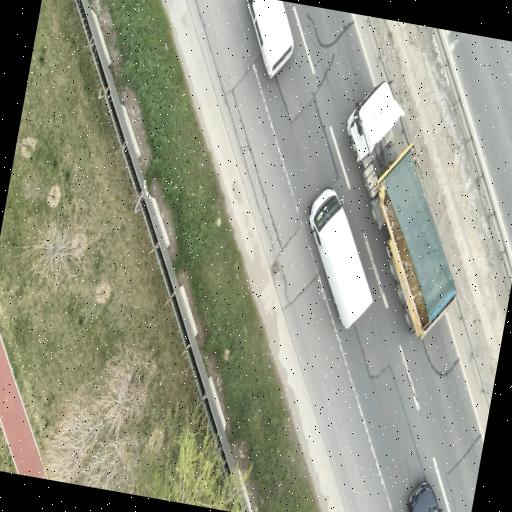car: (246, 0, 293, 78), (408, 482, 441, 511)
truck: (346, 82, 455, 337), (309, 187, 372, 328)
